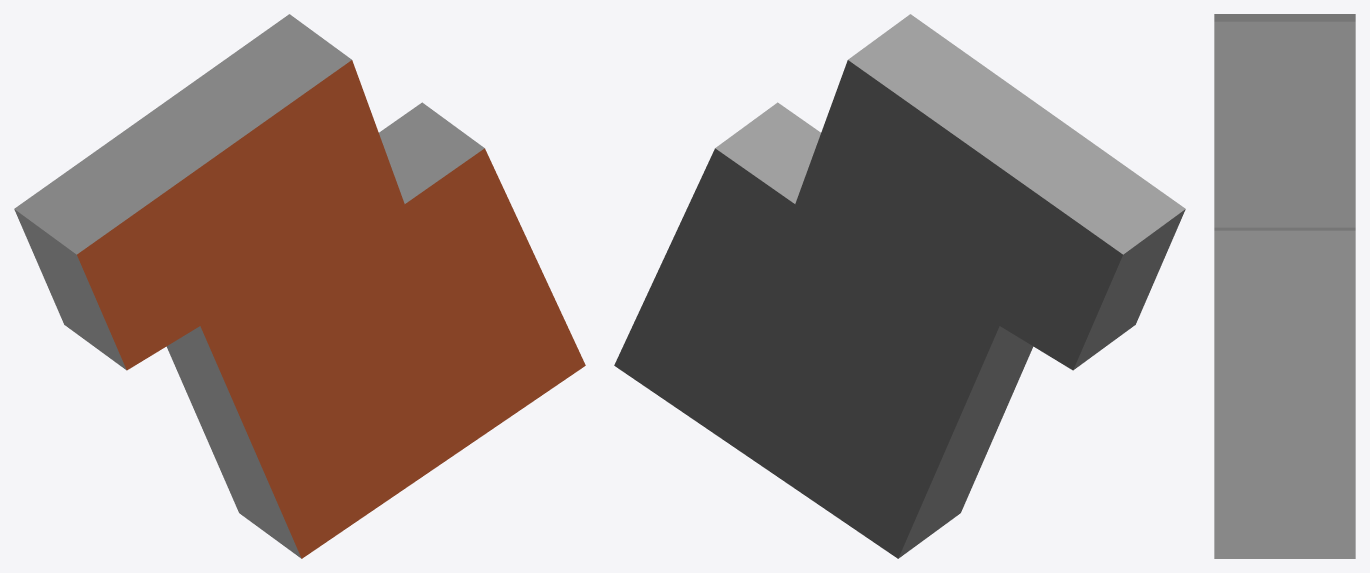
Rendered from construction_3343_assumed_A_Casa_h6m.obj.
3 renders of one model, left to right at view 1: azimuth 30°, elevation 25°; view 2: azimuth 150°, elevation 25°; view 3: azimuth 270°, elevation 25°, orthographic. The views are drawn at different scales.
Visible parts, largest first — view 1: construction_3343_assumed_A_Casa; view 2: construction_3343_assumed_A_Casa; view 3: construction_3343_assumed_A_Casa.
Boxes of the visible parts, left/top/right/bottom form: construction_3343_assumed_A_Casa: left=14, top=14, right=585, bottom=558; construction_3343_assumed_A_Casa: left=614, top=14, right=1185, bottom=558; construction_3343_assumed_A_Casa: left=1214, top=14, right=1355, bottom=558.
Size of the model in its own units: 28.16 by 25.73 by 6.
